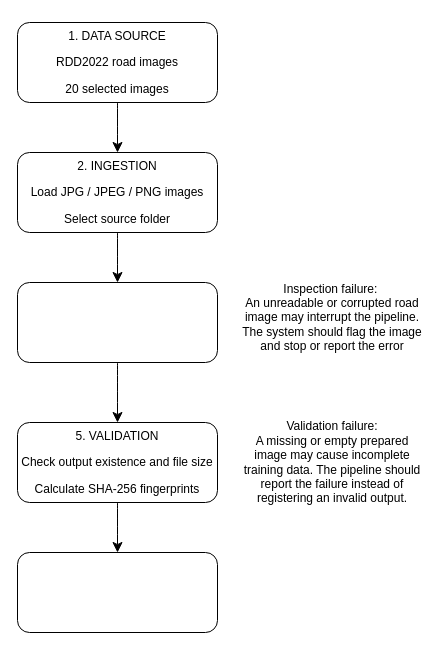
This 445x663 diagram has some shape labels left out. Each missing label, with the centre of its shape:
"3. INSPECTION Check image readability Inspect dimensions and colour mode" belongs at point 117,322.
"7. METADATA & LINEAGE pipeline_manifest.json Source-output mapping and checksums" belongs at point 117,592.
